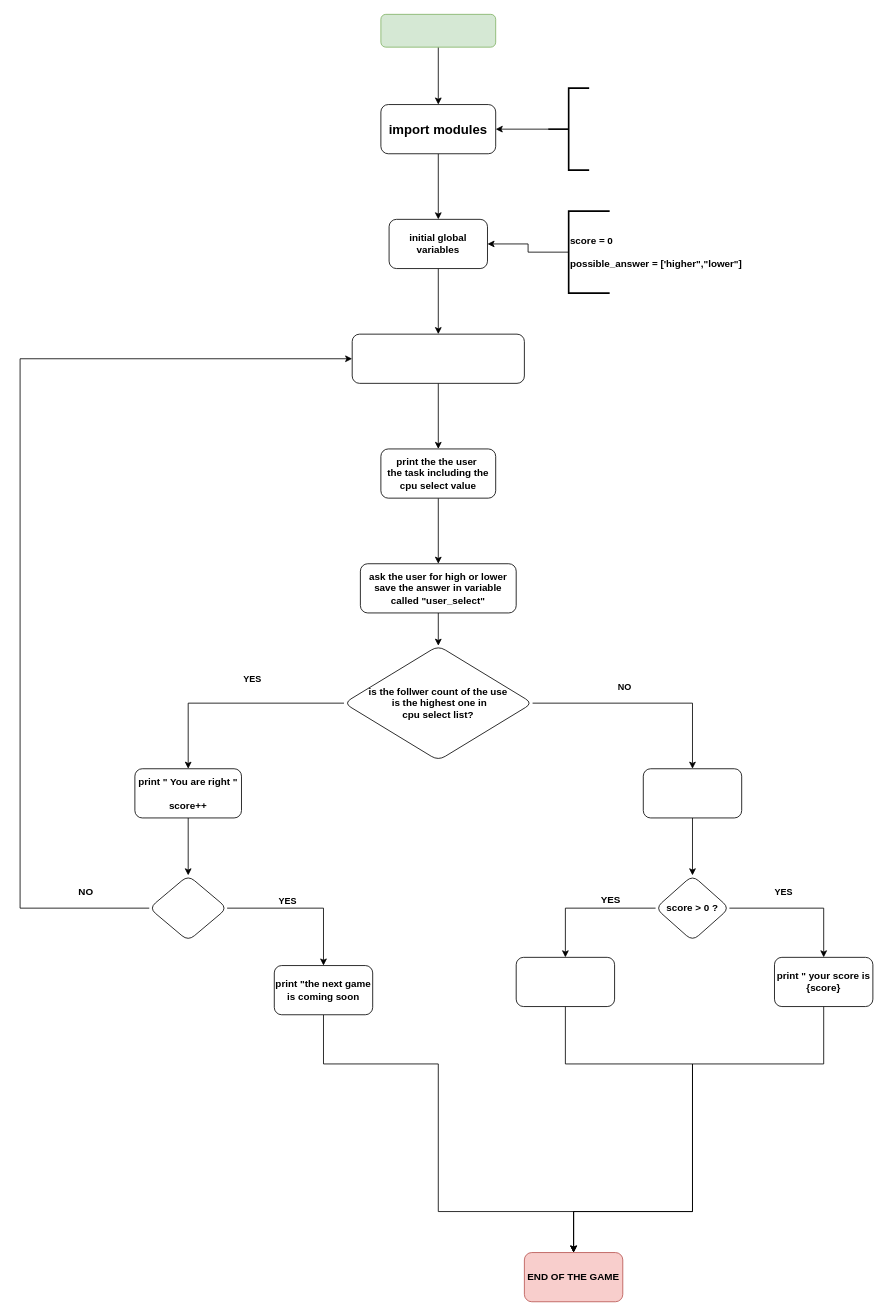
Some shapes in this 887 by 1316 pixel diagram are drawn without their labels. The box of each missing label's shape, as (x1, y1, x2, y2) in pixels:
cpu choose randmly 2 item from list save them in variable called "cpu_select": (351, 333, 524, 383)
print " you lose ": (642, 768, 742, 818)
print did't get any score: (515, 957, 615, 1007)
random art game_data: (547, 87, 590, 171)
score == 10 ?: (148, 875, 227, 941)
START THE GAME: (380, 14, 496, 47)
